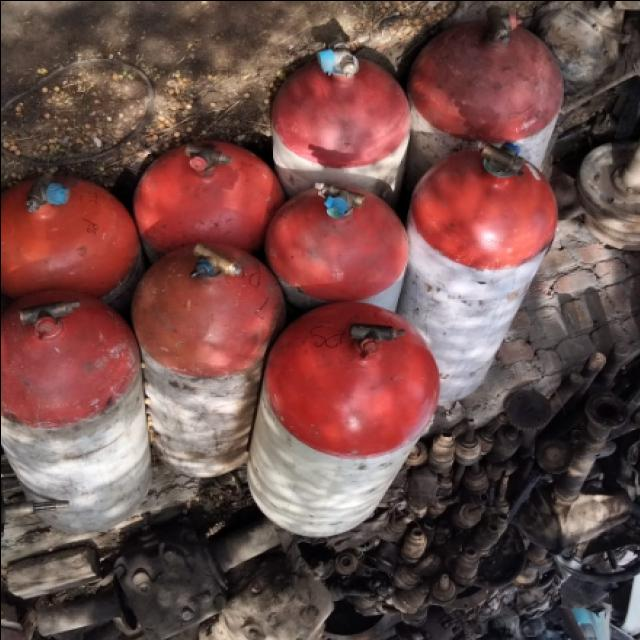cylinder: (245, 300, 437, 536), (401, 137, 556, 405), (1, 290, 152, 533), (130, 244, 285, 477)
